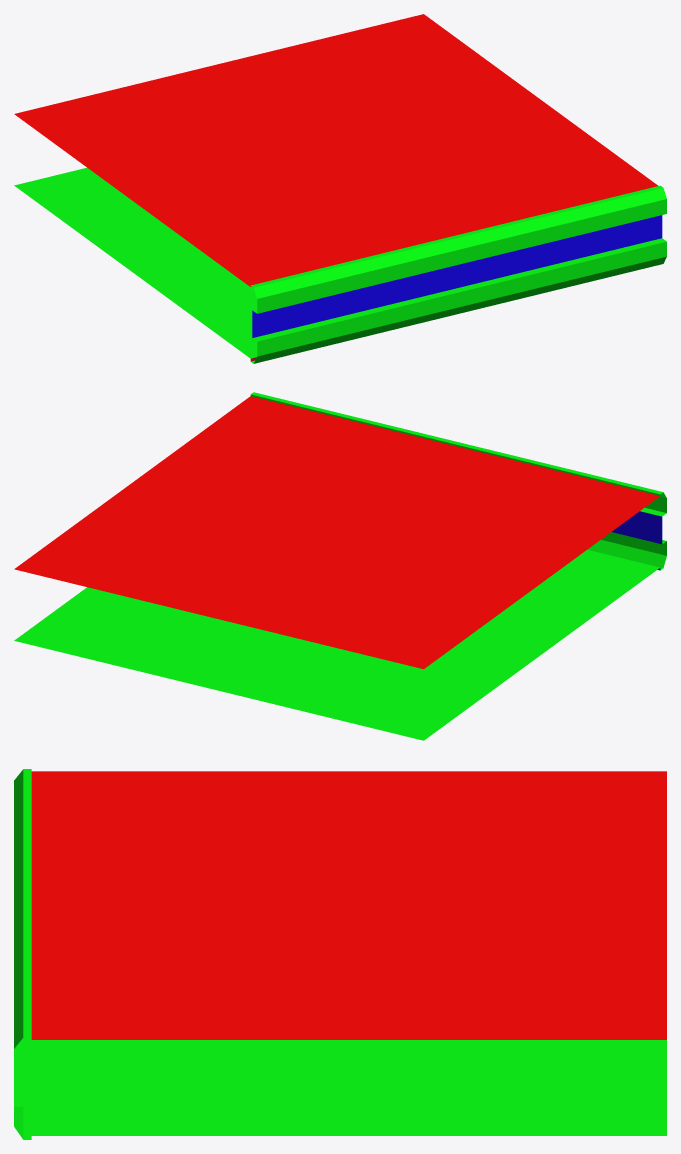
Rendered from Floor - 6 Units.FBX.
3 views of the same model, one above another, from view 1: azimuth 30°, elevation 25°; view 2: azimuth 150°, elevation 25°; view 3: azimuth 270°, elevation 25° (orthographic). The views are drawn at different scales.
Visible parts, largest first — view 1: Floor_low001; view 2: Floor_low001; view 3: Floor_low001.
Part boxes in pixels (x1=…): Floor_low001: x1=14, y1=14, x2=666, y2=363; Floor_low001: x1=14, y1=392, x2=666, y2=740; Floor_low001: x1=14, y1=769, x2=666, y2=1139.
Size of the model in its own units: 600 by 107 by 617.
